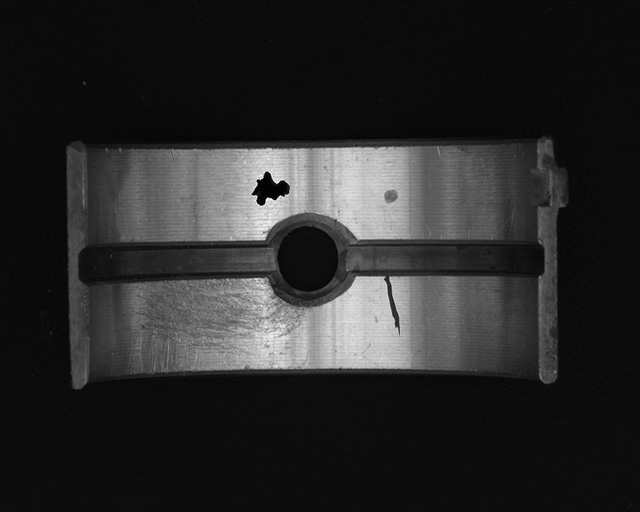blot: (251, 171, 291, 206)
bruise: (383, 189, 399, 204)
gap: (342, 238, 546, 281), (79, 241, 277, 284)
hole: (267, 214, 351, 306)
nick: (384, 275, 403, 337)
scratch: (124, 276, 307, 375)
